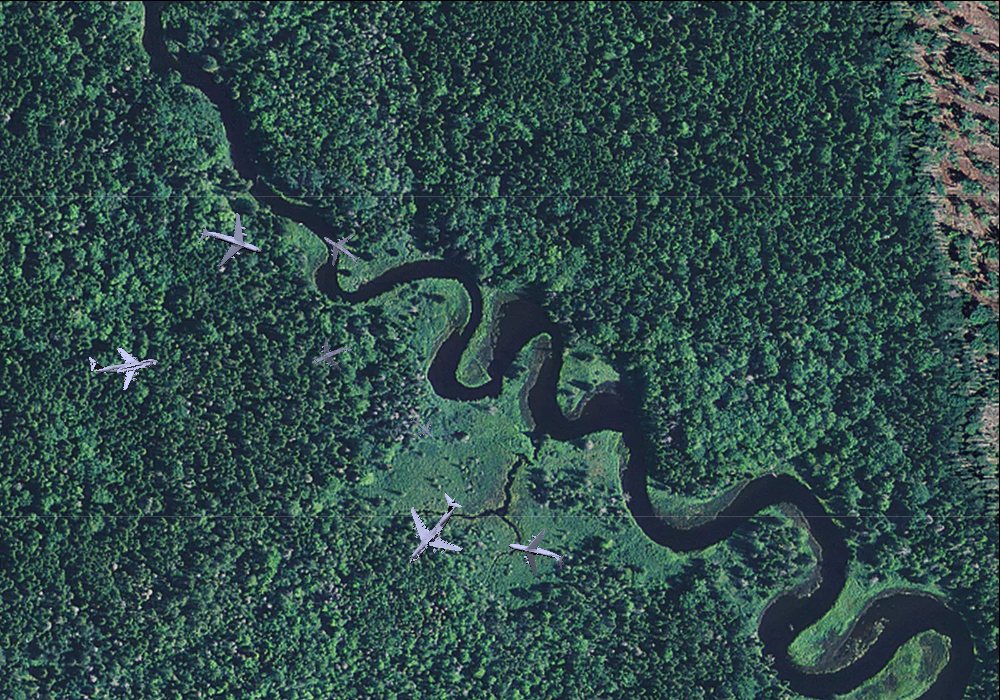plane: (379, 477, 486, 584), (189, 202, 271, 281), (83, 329, 162, 398), (502, 520, 571, 586), (311, 221, 369, 278), (303, 327, 360, 383), (402, 408, 442, 448)
